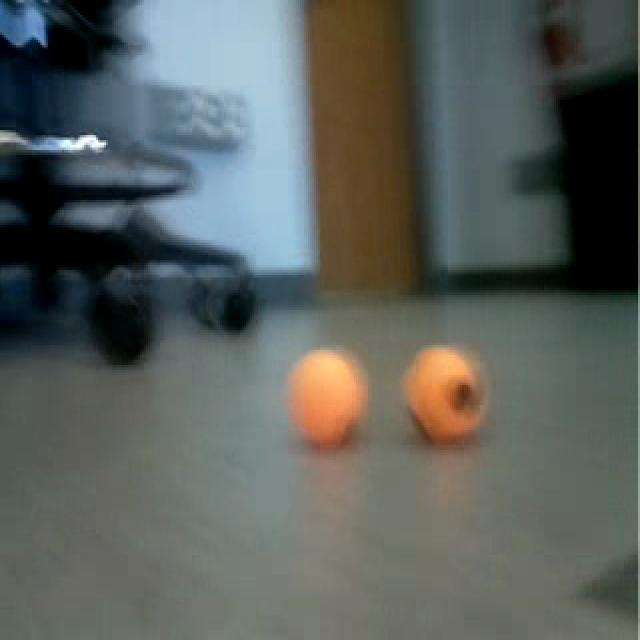oball: (399, 336, 487, 446), (283, 341, 367, 448)
